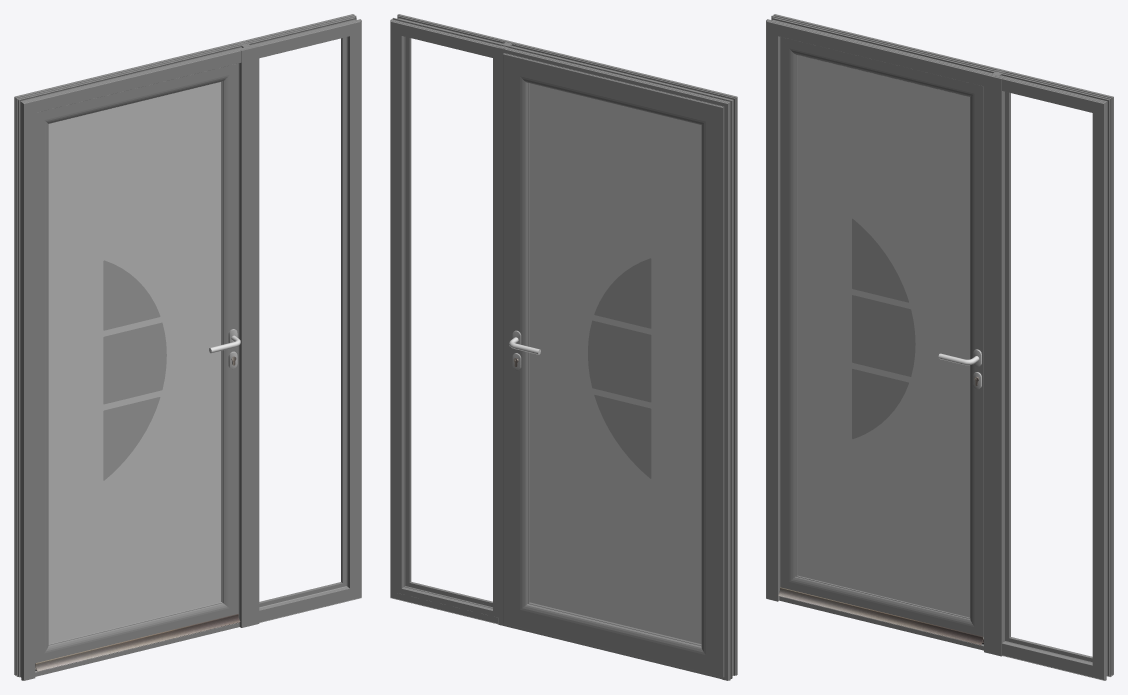
3 views of the same model, side by side, from view 1: azimuth 30°, elevation 25°; view 2: azimuth 150°, elevation 25°; view 3: azimuth 330°, elevation 25° (orthographic).
Visible parts, largest first — view 1: fosco_3, aroFixo, aroMovel, montanteCentral, transparente_3, bite, borracha, escovas, rodaPe; view 2: fosco_3, aroMovel, aroFixo, transparente_3, bite, montanteCentral, borracha, rodaPe; view 3: fosco_3, aroFixo, aroMovel, montanteCentral, transparente_3, bite, escovas, borracha, rodaPe.
Boxes of the visible parts, x1,y1,x2,y2 form: fosco_3: [48, 82, 221, 643]; aroFixo: [14, 14, 361, 680]; aroMovel: [35, 63, 238, 663]; montanteCentral: [238, 42, 259, 627]; transparente_3: [103, 260, 166, 480]; bite: [259, 37, 346, 607]; borracha: [259, 37, 345, 606]; escovas: [35, 614, 240, 671]; rodaPe: [35, 622, 239, 676]; fosco_3: [529, 83, 701, 644]; aroMovel: [503, 53, 724, 677]; aroFixo: [390, 14, 737, 680]; transparente_3: [588, 258, 651, 478]; bite: [396, 29, 498, 617]; montanteCentral: [498, 40, 518, 626]; borracha: [404, 36, 492, 608]; rodaPe: [505, 624, 721, 679]; fosco_3: [797, 55, 969, 617]; aroFixo: [766, 14, 1113, 680]; aroMovel: [780, 37, 983, 638]; montanteCentral: [984, 70, 1004, 656]; transparente_3: [852, 218, 915, 438]; bite: [1005, 91, 1092, 661]; escovas: [778, 587, 983, 645]; borracha: [1006, 92, 1092, 660]; rodaPe: [779, 596, 983, 650].
Bounding box in the file's own units: 1320 × 2149 × 185.
Materials: 10 (4 with a texture image).
